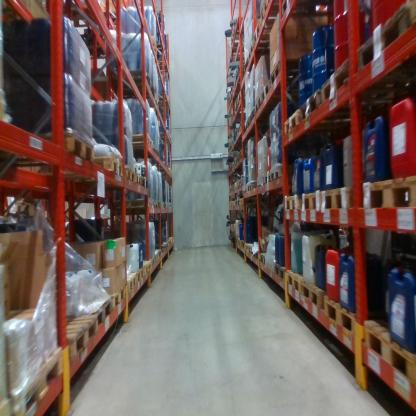pallet: (317, 54, 403, 115), (355, 1, 414, 87), (1, 344, 67, 413), (363, 318, 414, 387), (5, 131, 97, 165), (322, 293, 392, 335), (362, 166, 415, 216), (39, 154, 123, 178), (60, 313, 97, 360), (103, 63, 153, 96), (321, 177, 355, 214), (79, 297, 113, 331), (298, 84, 323, 128), (281, 2, 329, 24), (300, 276, 330, 310), (252, 18, 288, 45), (246, 39, 273, 67), (109, 196, 152, 212), (286, 267, 308, 298), (129, 132, 158, 154), (258, 0, 282, 26), (270, 60, 302, 79), (253, 94, 281, 115), (299, 190, 321, 216), (106, 283, 127, 310), (284, 107, 302, 136), (284, 190, 302, 218), (261, 79, 281, 103), (229, 18, 244, 47), (269, 161, 285, 188), (248, 109, 275, 122), (155, 96, 175, 113), (158, 129, 173, 150), (234, 65, 246, 91), (274, 260, 288, 282), (123, 272, 136, 294), (138, 259, 151, 278), (134, 265, 146, 285), (123, 166, 136, 184), (158, 59, 171, 76), (239, 196, 260, 206), (259, 252, 272, 267), (236, 86, 245, 107), (246, 180, 257, 196), (245, 119, 256, 135), (233, 127, 244, 142), (229, 85, 235, 107), (237, 119, 247, 132), (135, 170, 142, 187), (264, 170, 270, 186), (230, 180, 236, 196), (244, 243, 252, 255), (141, 176, 149, 188), (239, 149, 246, 162), (155, 41, 164, 51), (151, 252, 159, 263), (239, 175, 245, 188), (233, 102, 238, 117), (252, 250, 260, 259), (162, 200, 168, 212), (153, 199, 159, 210), (150, 255, 155, 268), (155, 248, 162, 256), (235, 179, 239, 192), (235, 154, 239, 167), (241, 239, 245, 251), (156, 145, 160, 157), (230, 199, 235, 208), (235, 197, 239, 207), (238, 239, 242, 246), (232, 160, 234, 172), (235, 236, 238, 243), (229, 199, 230, 207)
